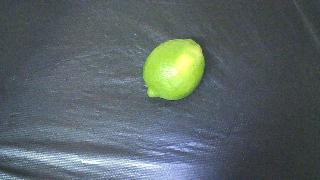LOCAL: (143, 39, 205, 100)
